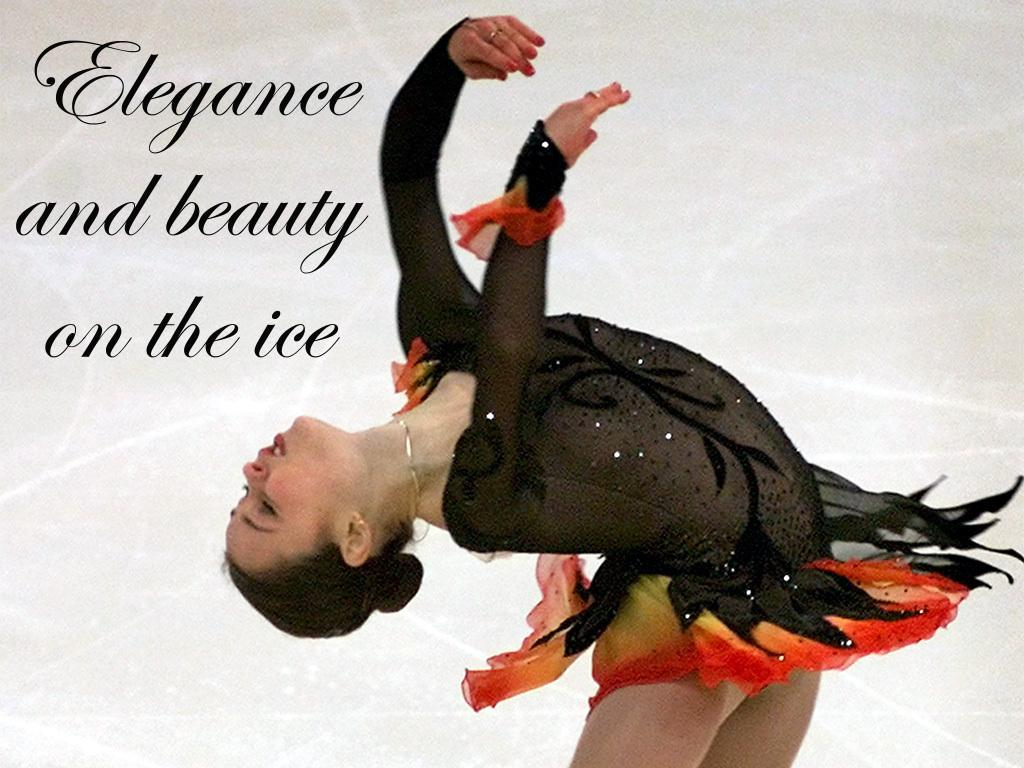face: (226, 416, 344, 576)
